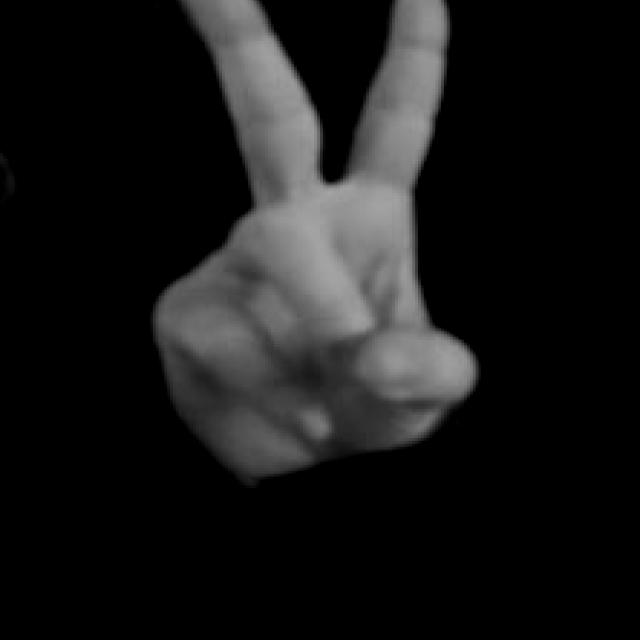V: (144, 0, 482, 489)
